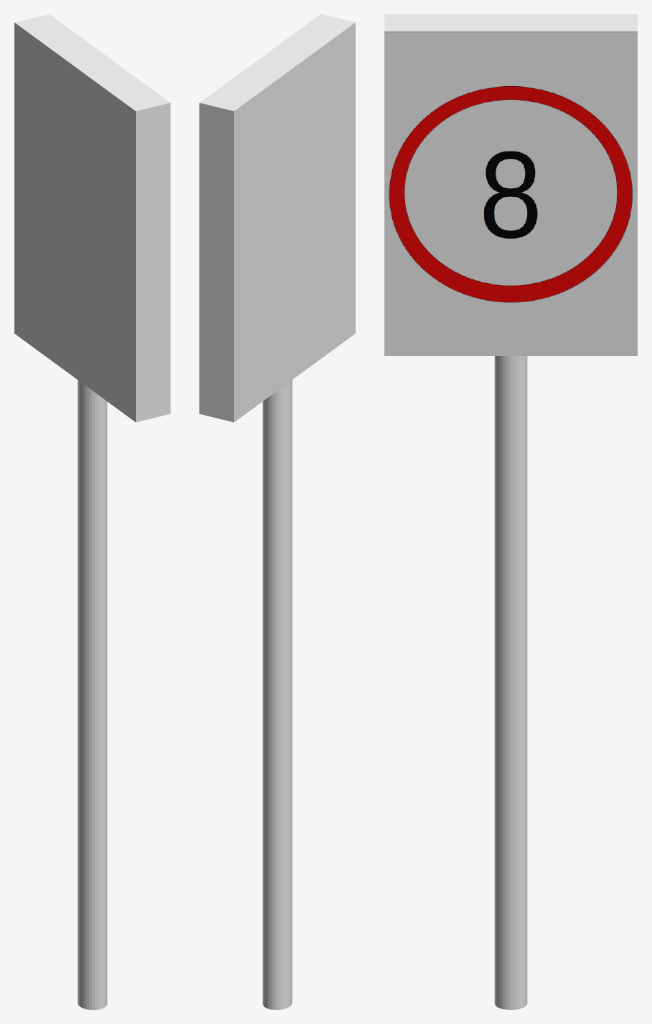
The model's file is sign8.dae.
3 renders of one model, left to right at view 1: azimuth 30°, elevation 25°; view 2: azimuth 150°, elevation 25°; view 3: azimuth 270°, elevation 25°, orthographic. The views are drawn at different scales.
Parts seen in each view (by area): view 1: Cube; view 2: Cube; view 3: Cube.
Part boxes in pixels (x1,y1,x2,y2): Cube: (14,14,170,1009); Cube: (199,14,355,1009); Cube: (384,14,637,1009).
Bounding box in the file's own units: 0.0692 × 0.42 × 1.8.
